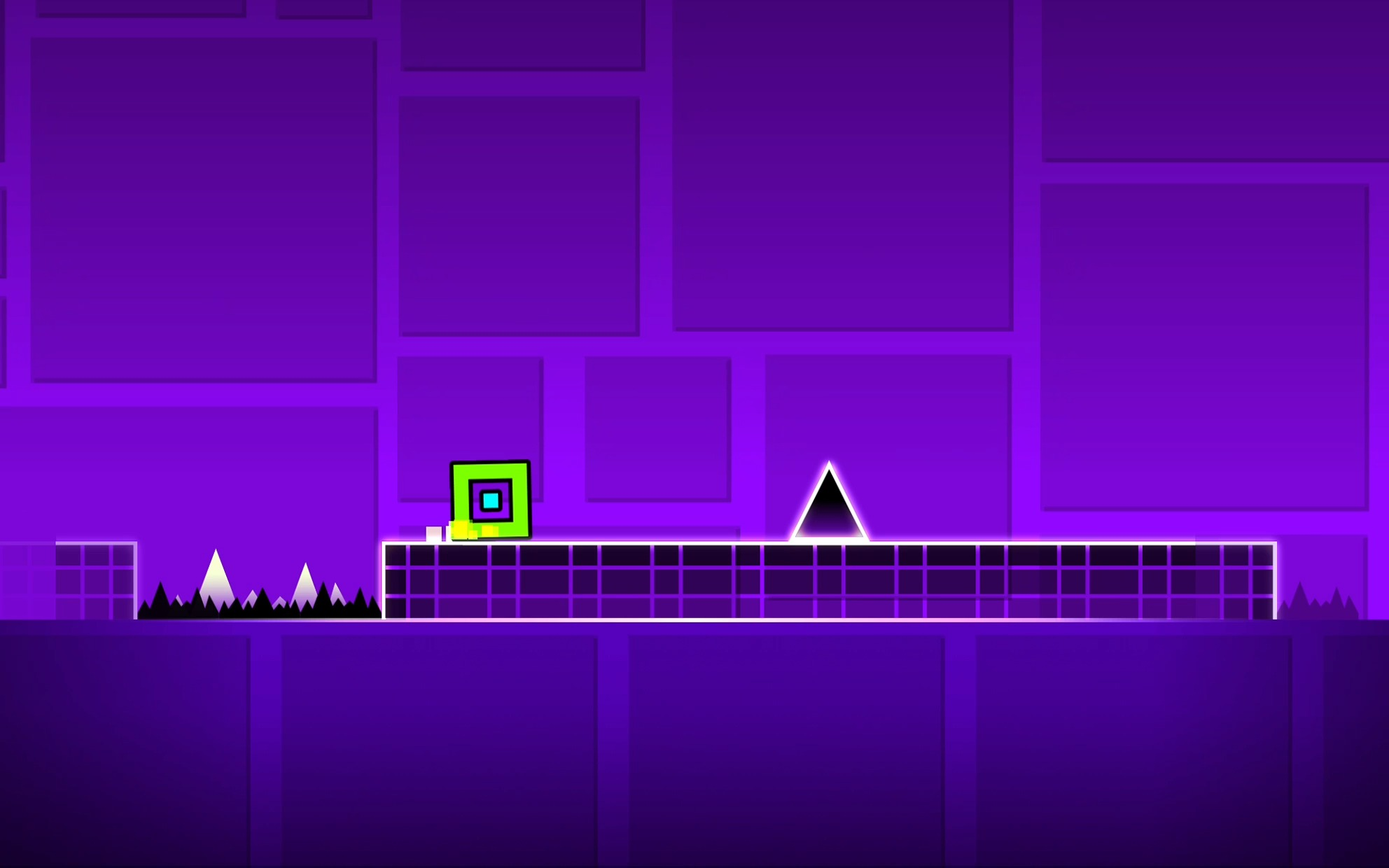Block2: (382, 543, 1274, 620), (8, 545, 132, 619)
Player: (449, 461, 530, 539)
Spike: (791, 463, 867, 538)
Spike2: (134, 587, 379, 619), (1276, 592, 1374, 622)
